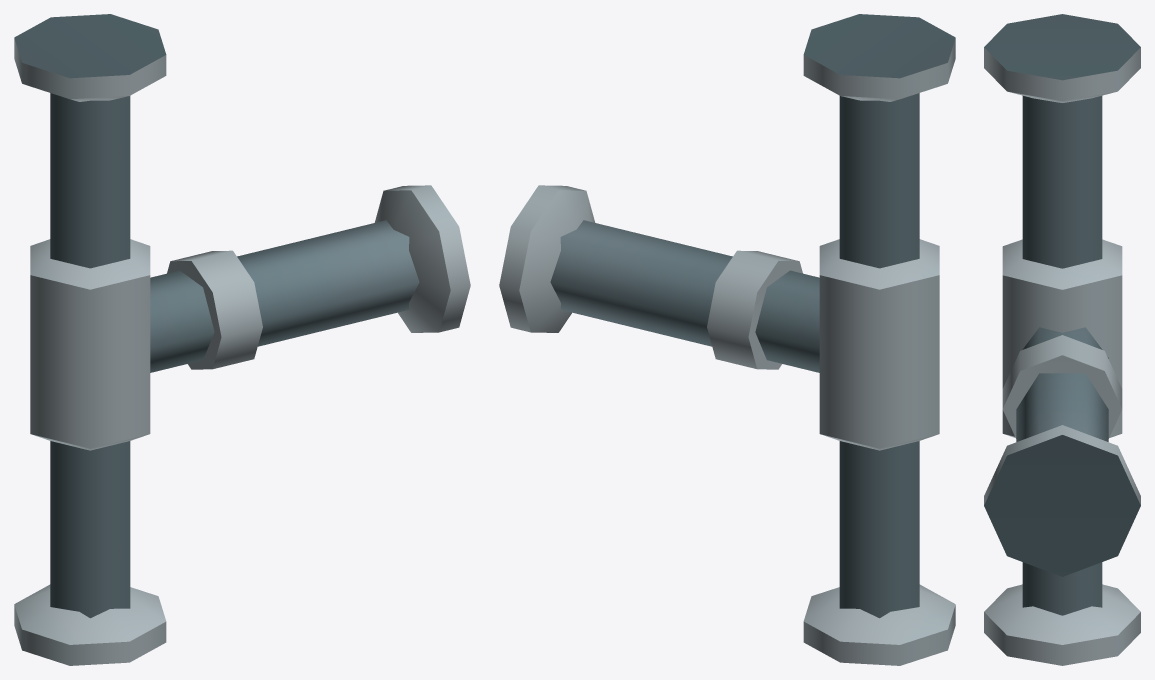
File: Pipe_008.fbx
3 views of the same model, side by side, from view 1: azimuth 30°, elevation 25°; view 2: azimuth 150°, elevation 25°; view 3: azimuth 270°, elevation 25° (orthographic).
Parts seen in each view (by area): view 1: Pipe_008; view 2: Pipe_008; view 3: Pipe_008.
Part boxes in pixels (x1,y1,x2,y2): Pipe_008: (14, 14, 470, 665); Pipe_008: (499, 14, 955, 665); Pipe_008: (984, 14, 1140, 665).
Size of the model in its own units: 76.5 by 25.5 by 105.
